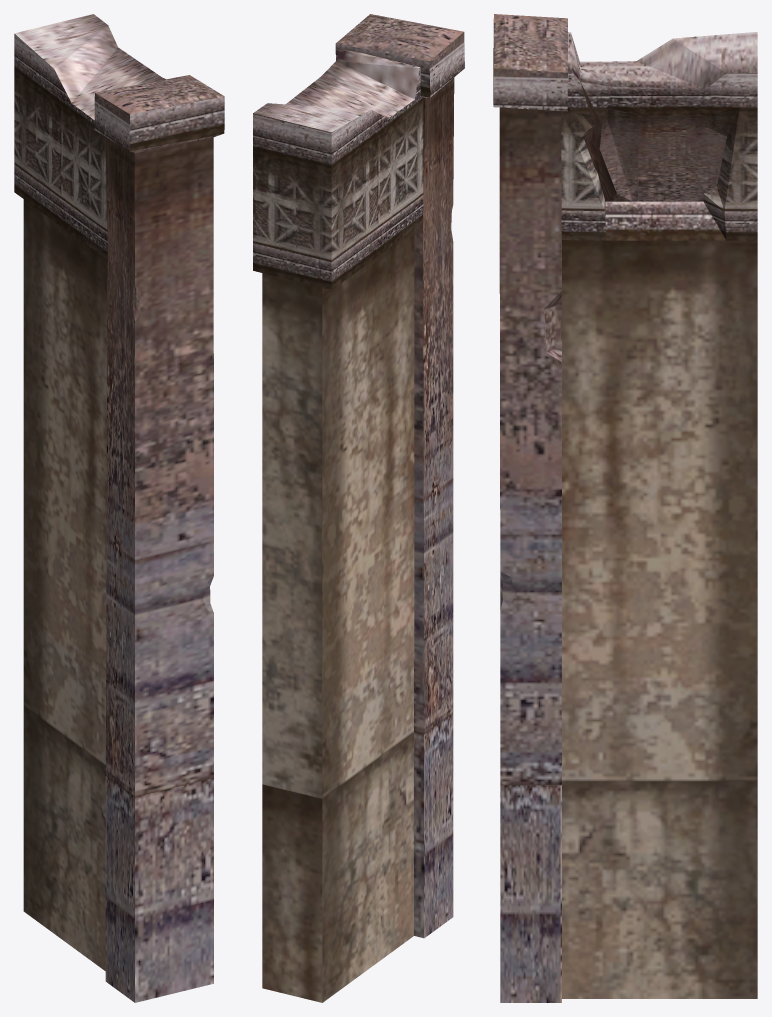
The model's file is MWalB3.glb.
3 views of the same model, side by side, from view 1: azimuth 30°, elevation 25°; view 2: azimuth 150°, elevation 25°; view 3: azimuth 270°, elevation 25° (orthographic). The views are drawn at different scales.
Parts seen in each view (by area): view 1: _MWalB3; view 2: _MWalB3; view 3: _MWalB3.
Boxes of the visible parts, x1,y1,x2,y2 form: _MWalB3: [14, 14, 224, 1002]; _MWalB3: [253, 14, 464, 1002]; _MWalB3: [493, 14, 757, 1002].
Size of the model in its own units: 0.4523 by 4.06 by 1.03.
Materials: 2 (2 with a texture image).
